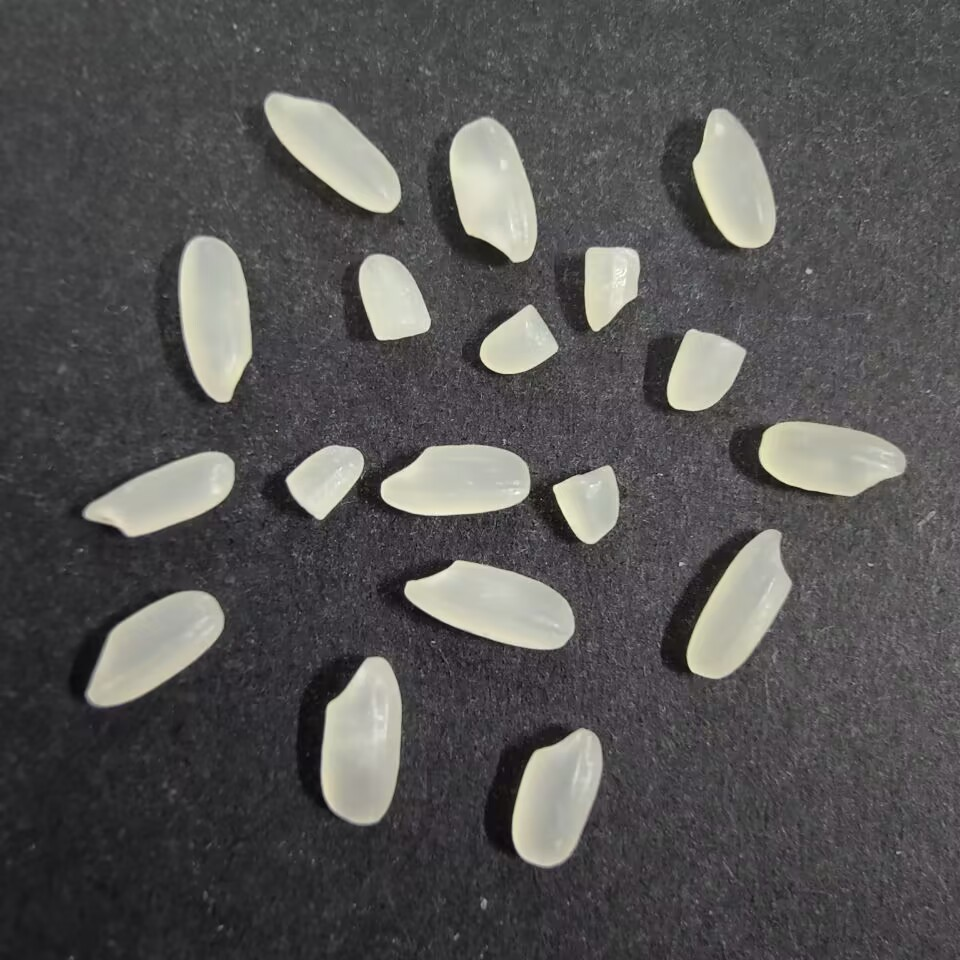broken: (355, 250, 436, 345), (663, 326, 751, 412), (282, 438, 367, 525), (476, 301, 560, 379), (550, 460, 622, 546), (579, 242, 646, 334)
rice: (257, 88, 407, 216), (395, 555, 576, 656), (80, 588, 227, 709), (682, 527, 795, 682), (78, 447, 240, 541), (319, 651, 404, 830), (507, 725, 606, 872), (445, 113, 540, 264), (175, 233, 257, 407), (689, 104, 782, 252), (754, 418, 909, 498), (376, 442, 532, 518)
